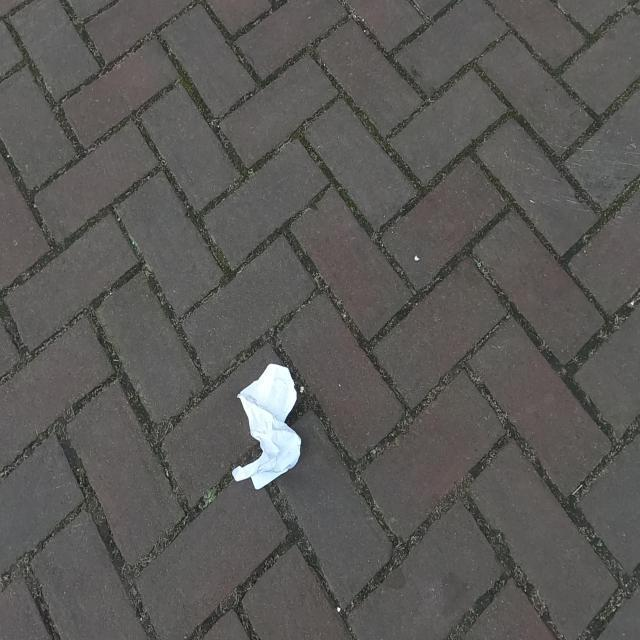Paper: (216, 360, 308, 494)
